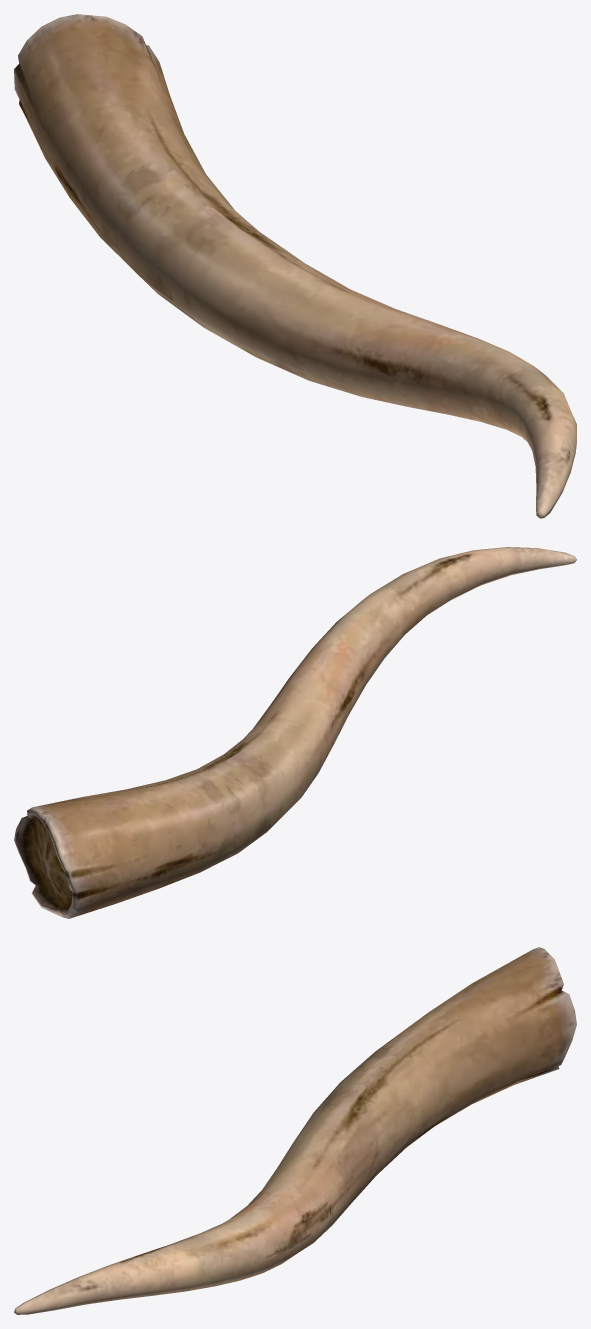
The picture shows the model from 3 angles, top to bottom: view 1: azimuth 30°, elevation 25°; view 2: azimuth 150°, elevation 25°; view 3: azimuth 330°, elevation 25°; orthographic projection. The views are drawn at different scales.
Parts seen in each view (by area): view 1: SM_Garou_Materials_Tusks_01_LOD0; view 2: SM_Garou_Materials_Tusks_01_LOD0; view 3: SM_Garou_Materials_Tusks_01_LOD0.
Part boxes in pixels (x1,y1,x2,y2): SM_Garou_Materials_Tusks_01_LOD0: (14,14,576,518); SM_Garou_Materials_Tusks_01_LOD0: (14,547,576,918); SM_Garou_Materials_Tusks_01_LOD0: (14,947,576,1314).
Bounding box in the file's own units: 0.6502 × 0.5977 × 3.97.
